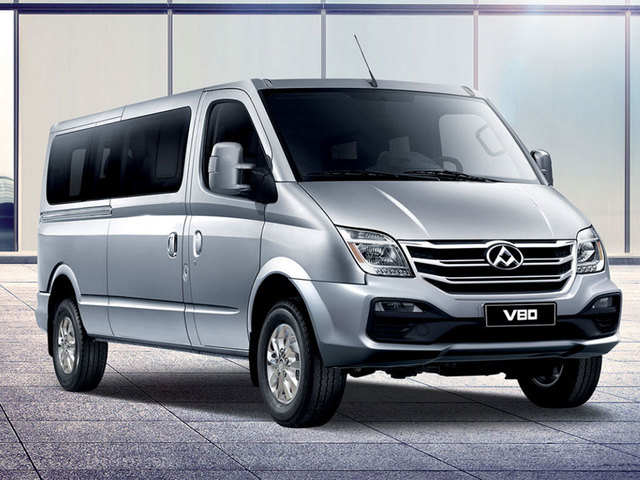van: (32, 74, 625, 426)
